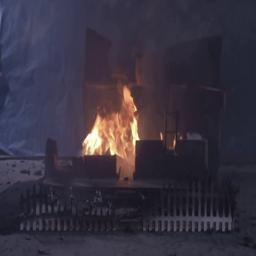fire: (75, 73, 155, 166)
